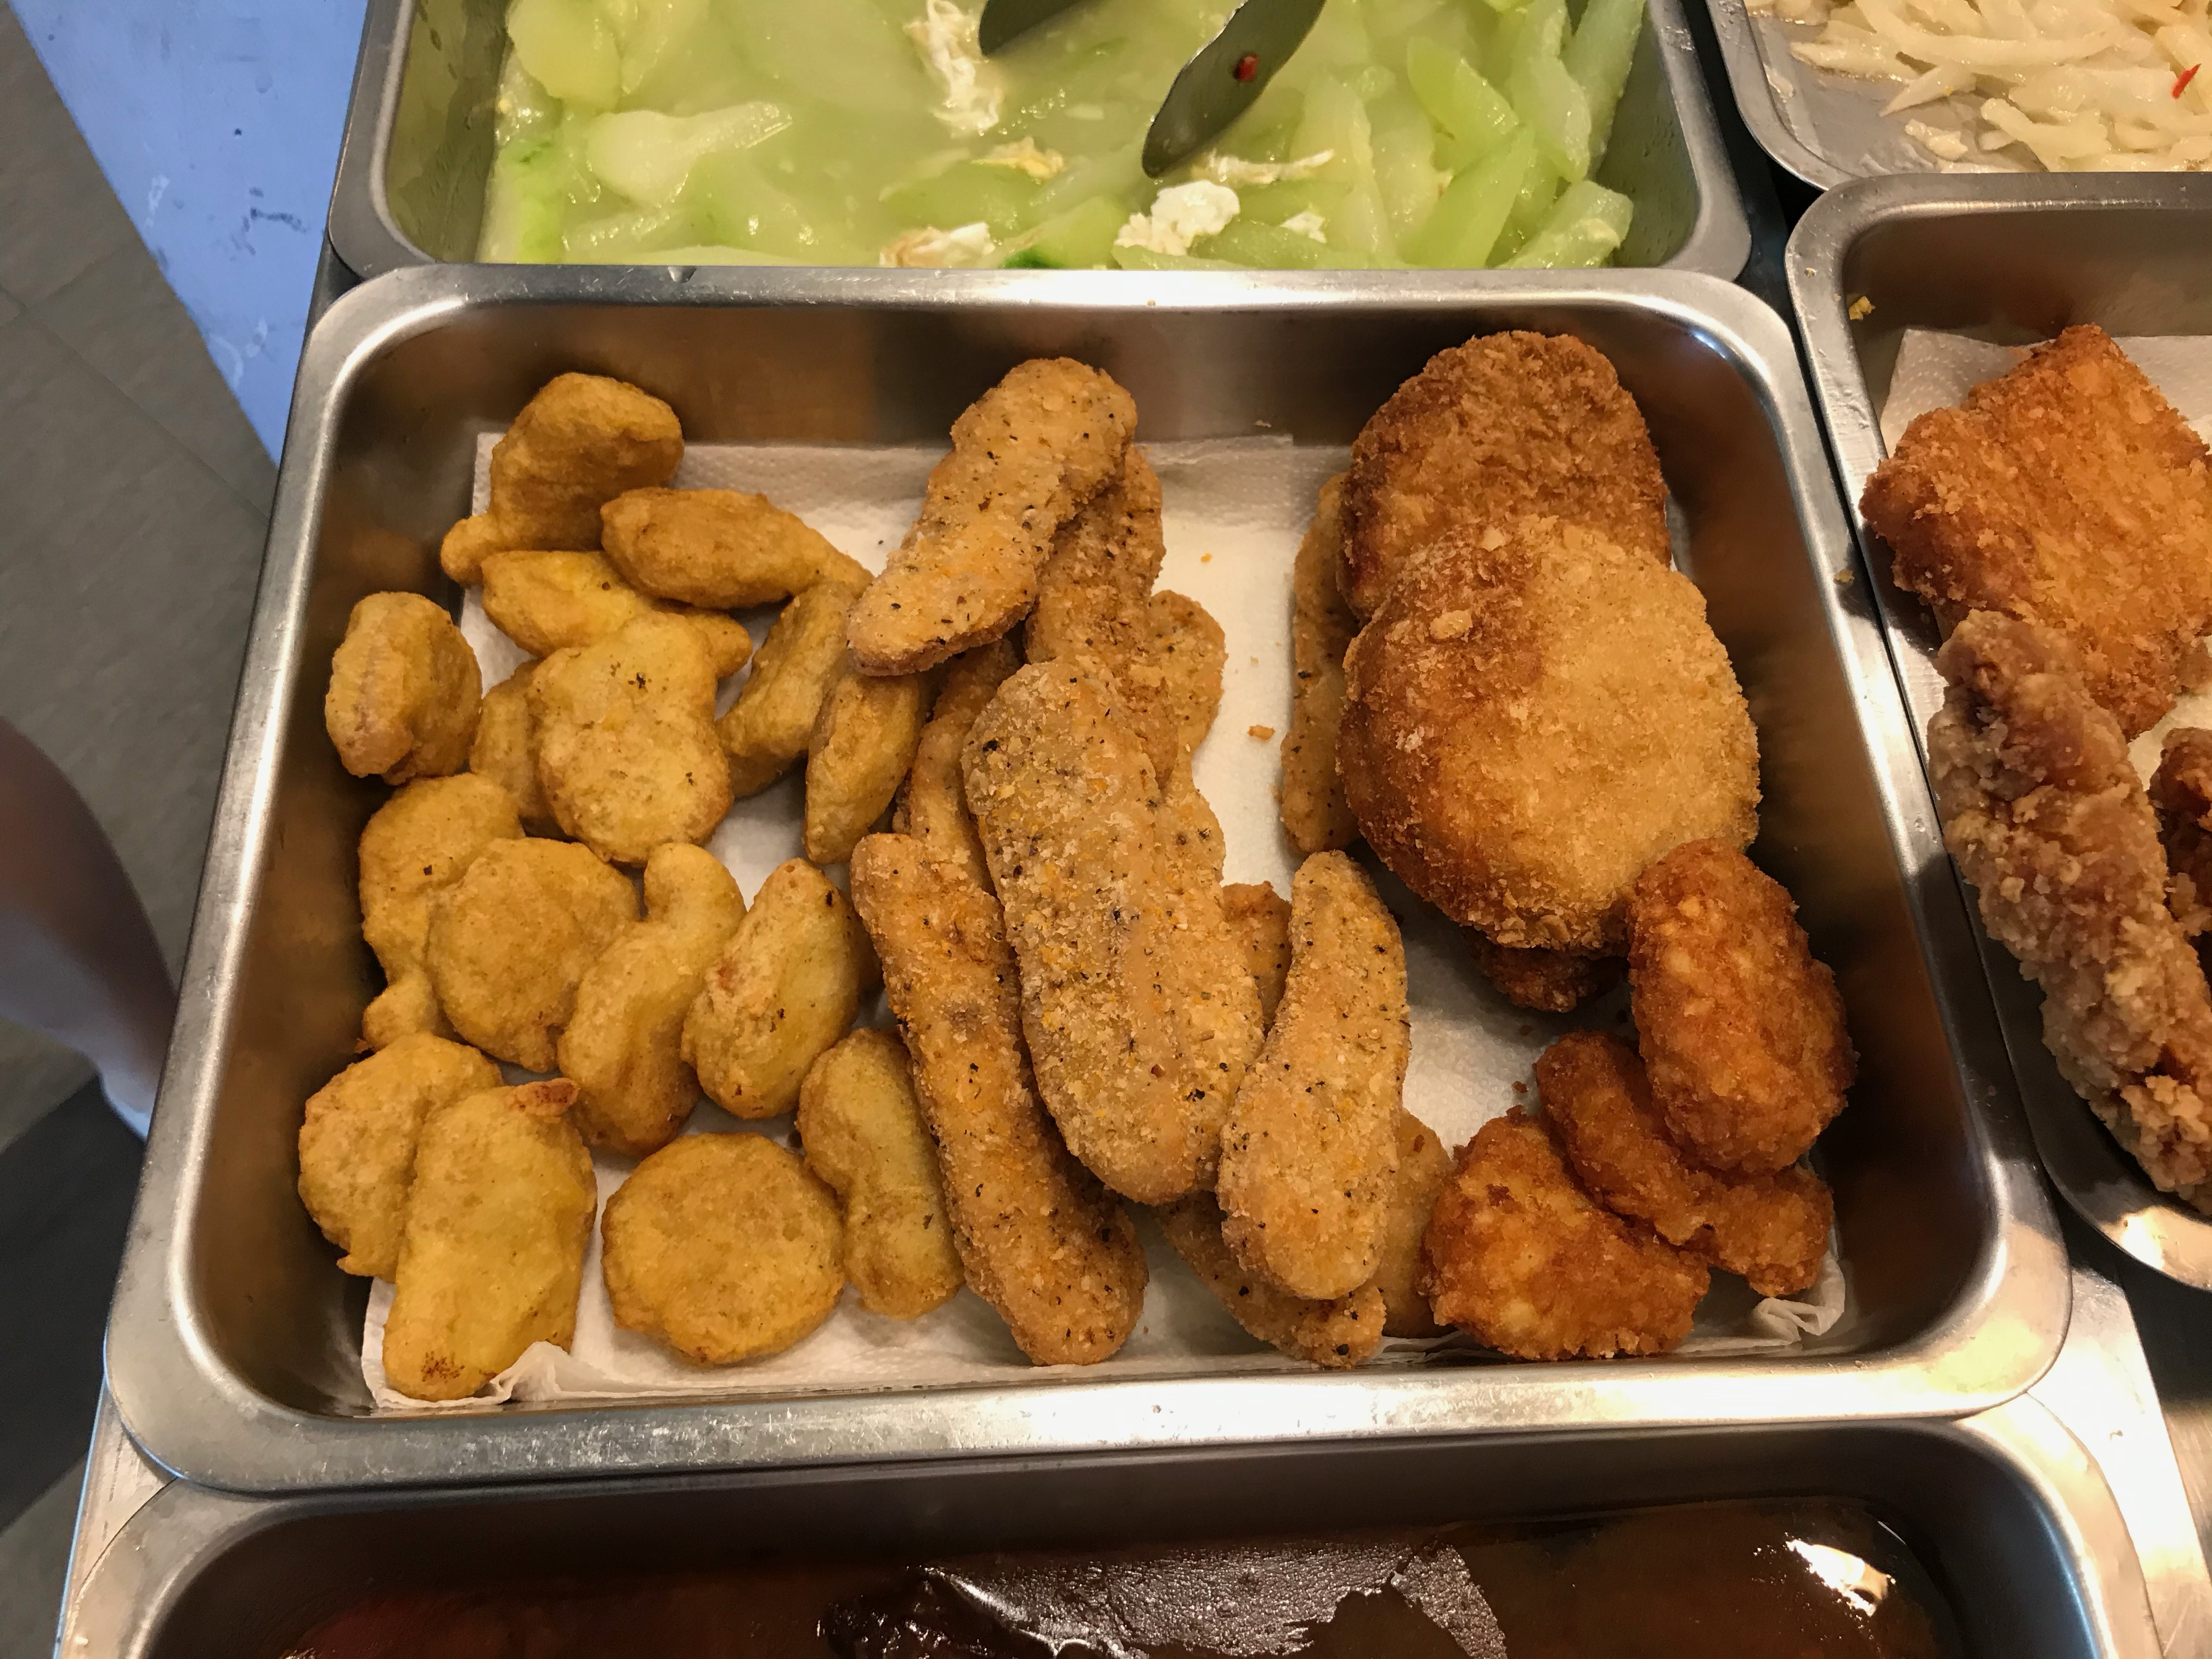chicken_nuggets: (329, 371, 855, 1392)
triangle_hash_brown: (1425, 861, 1843, 1366)
